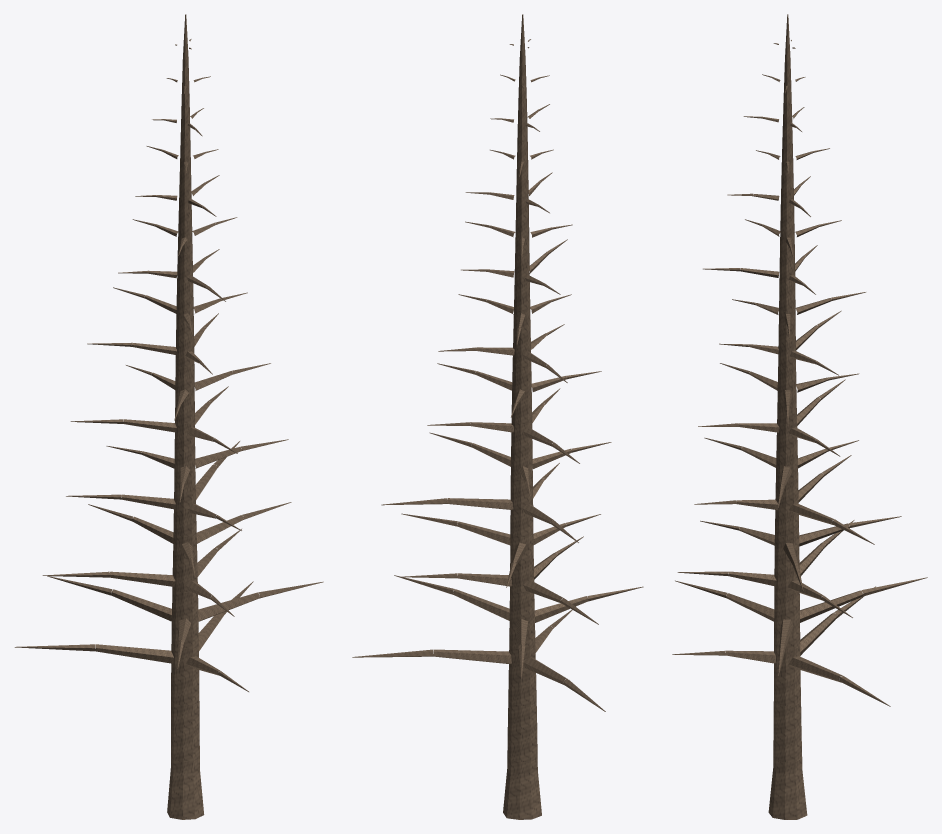
The model's file is fir_mid.glb.
3 views of the same model, side by side, from view 1: azimuth 30°, elevation 25°; view 2: azimuth 150°, elevation 25°; view 3: azimuth 270°, elevation 25° (orthographic).
Parts seen in each view (by area): view 1: VIS_Bark; view 2: VIS_Bark; view 3: VIS_Bark.
Part boxes in pixels (left/top/right/bottom): VIS_Bark: left=14, top=14, right=323, bottom=819; VIS_Bark: left=352, top=14, right=643, bottom=819; VIS_Bark: left=672, top=14, right=927, bottom=819.
Size of what is drawn, in the model's own units: 6.09 by 17.8 by 5.17.
Materials: 1 (1 with a texture image).
